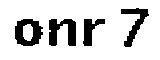7: (119, 4, 150, 53)
n: (46, 17, 78, 51)
o: (12, 15, 42, 50)
r: (82, 16, 105, 48)
